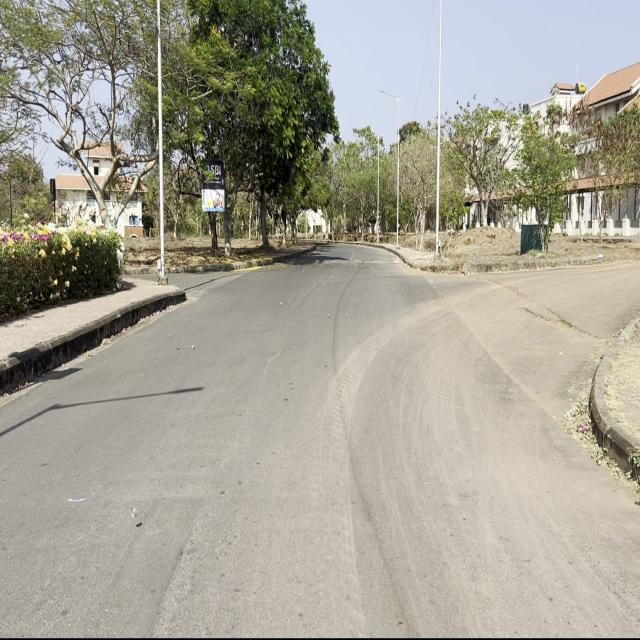Road: (3, 245, 625, 633)
